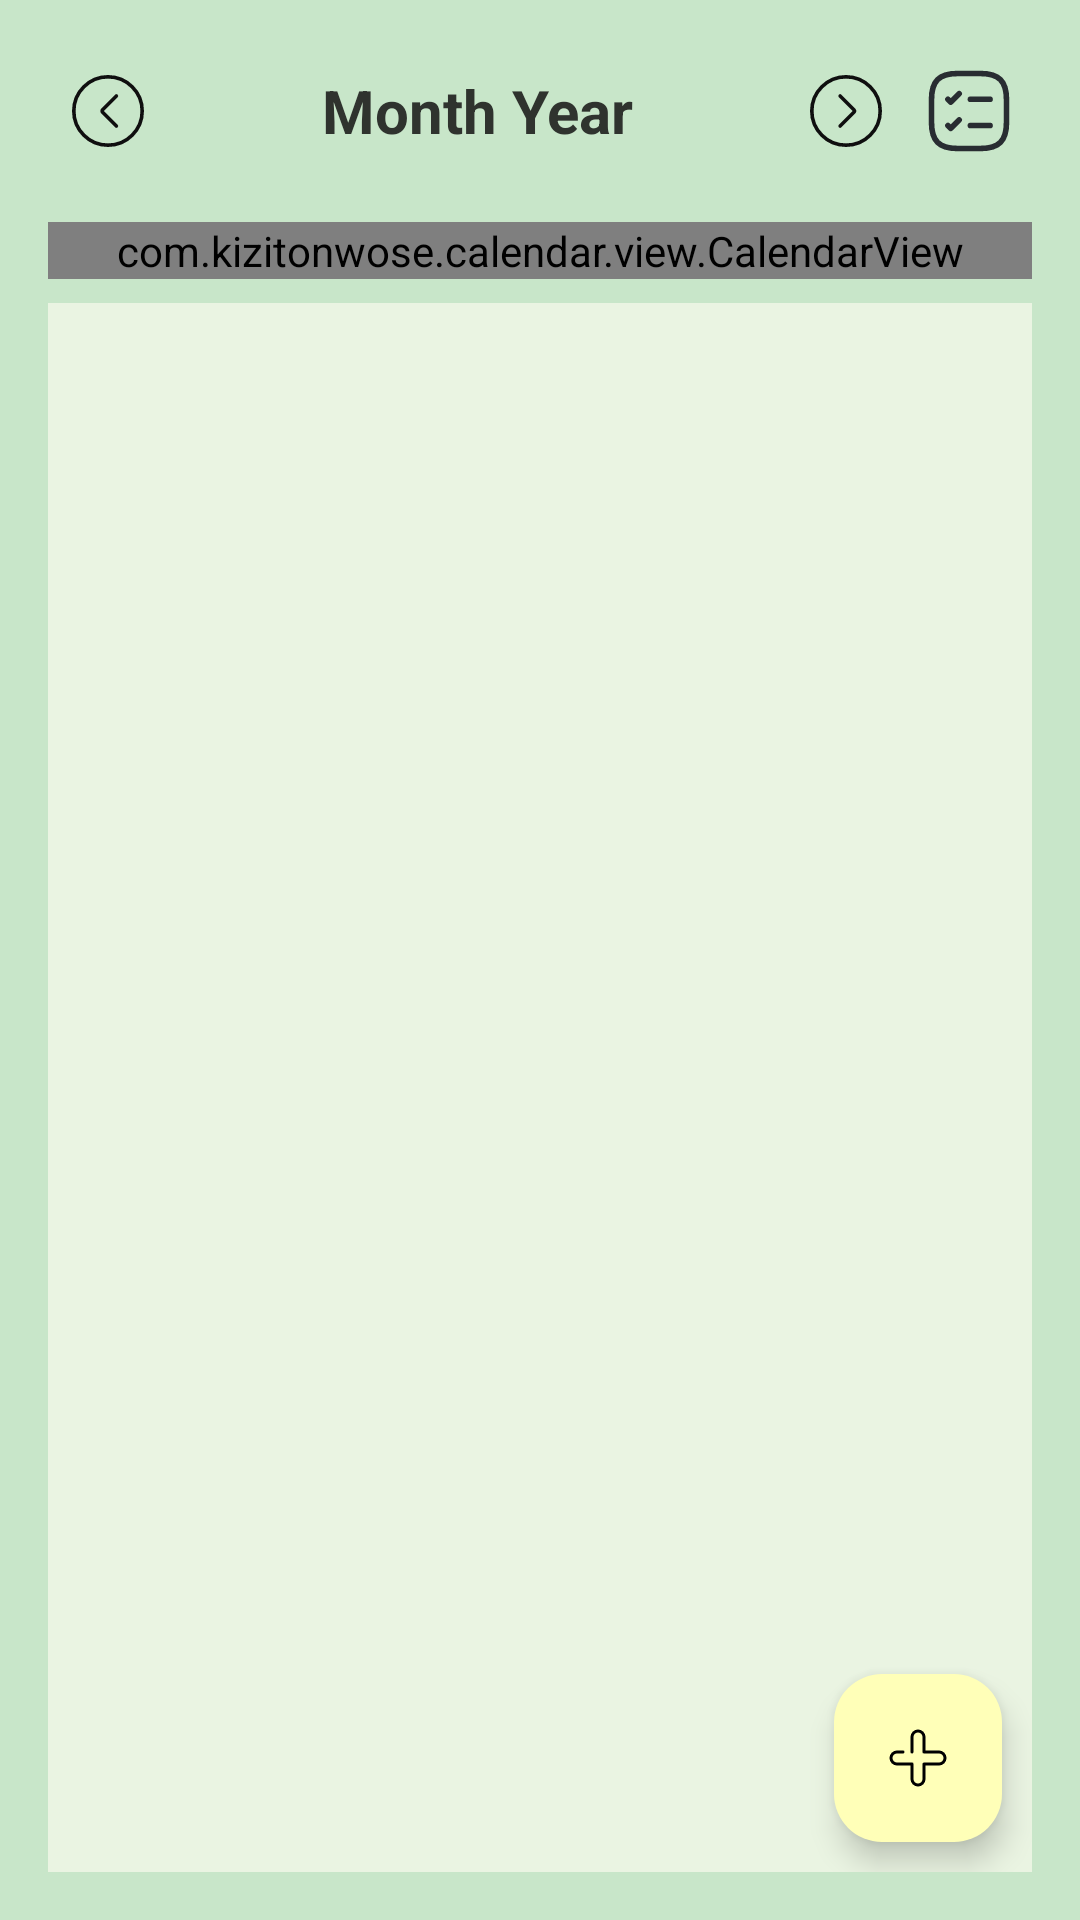

Where to tap for icons on this 1080px x 1920px app screen, as (x=x, y=y):
next: (x=846, y=111)
prev: (x=108, y=111)
tasklist: (x=969, y=111)
